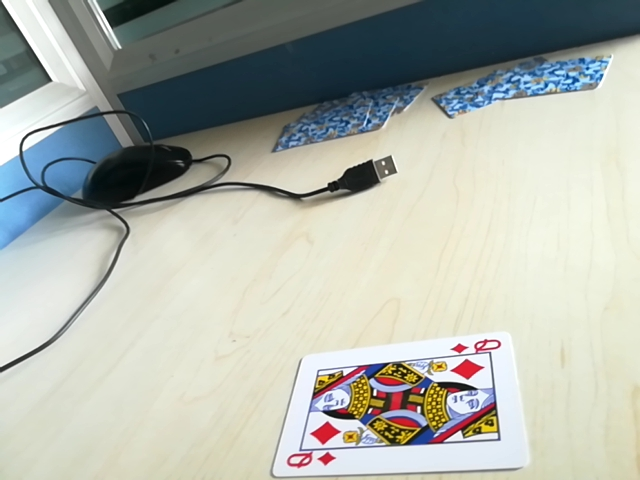fk q: (444, 336, 502, 361), (282, 449, 339, 474)
